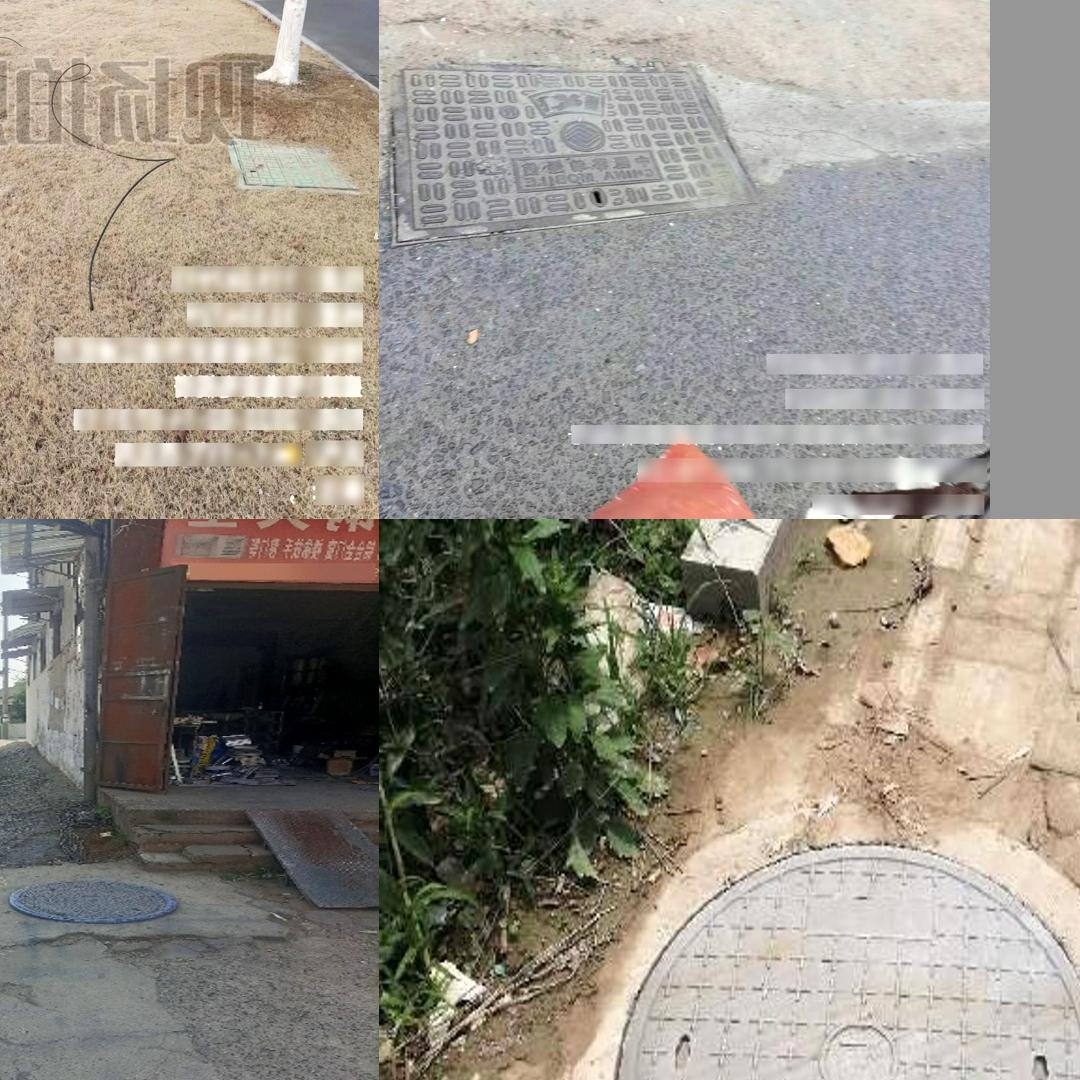good: (529, 806, 1080, 1080), (389, 65, 764, 251), (0, 867, 182, 920), (228, 134, 362, 194)
